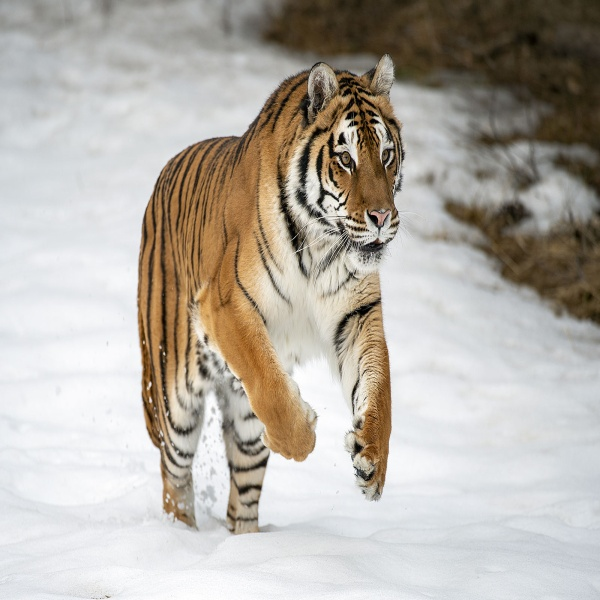Tiger: (134, 50, 426, 541)
